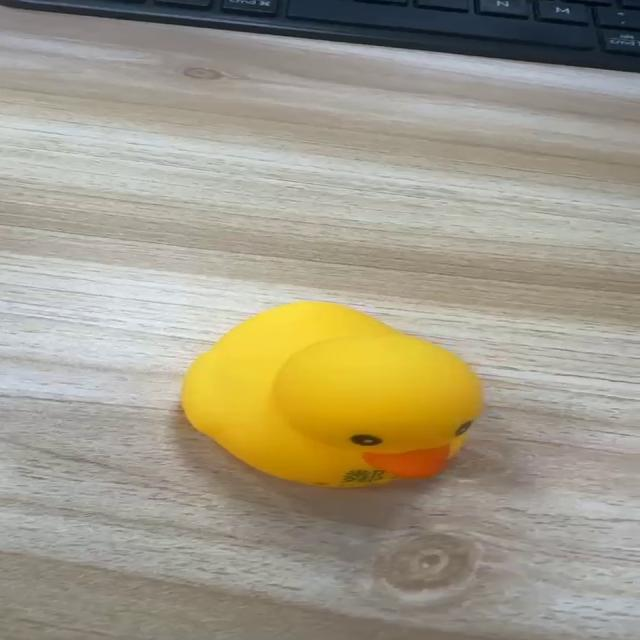yellow_duck: (178, 298, 485, 488)
